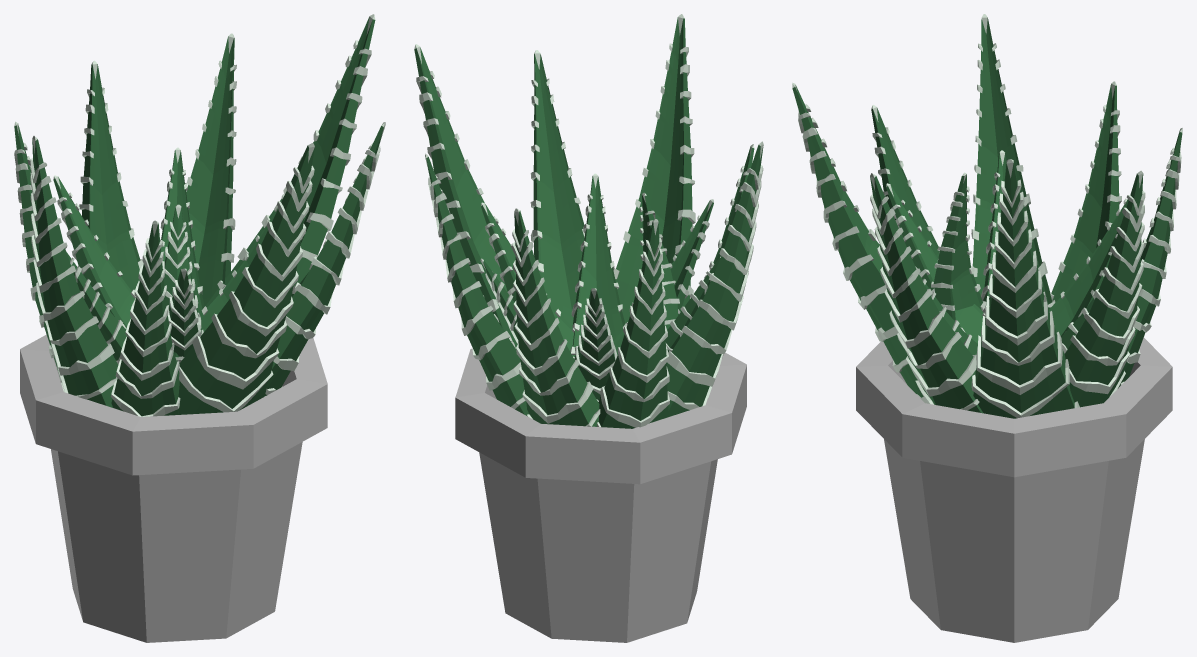
Rendered from ZebraPlant.gltf.
3 views of the same model, side by side, from view 1: azimuth 30°, elevation 25°; view 2: azimuth 150°, elevation 25°; view 3: azimuth 270°, elevation 25° (orthographic). The views are drawn at different scales.
Visible parts, largest first — view 1: node-0; view 2: node-0; view 3: node-0.
Boxes of the visible parts, box(x1,y1,x2,y2) form: node-0: box(14, 14, 385, 642); node-0: box(414, 14, 763, 642); node-0: box(792, 14, 1182, 642).
Size of the model in its own units: 5.68 by 8.3 by 5.48.
